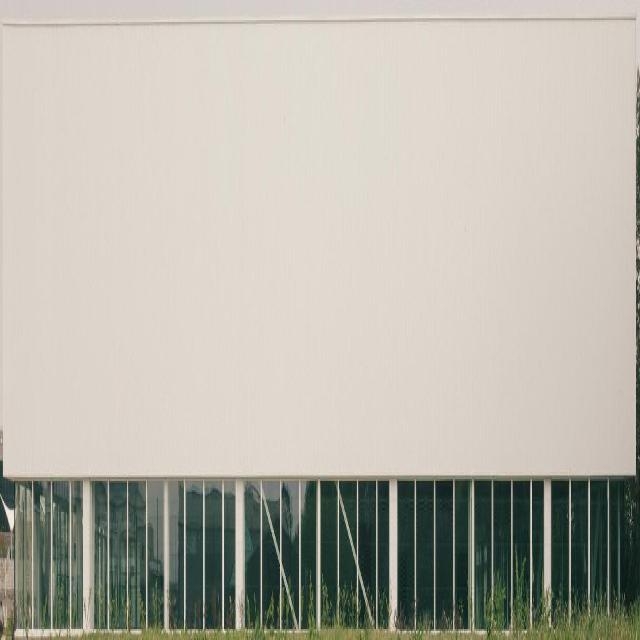window: (19, 467, 637, 607)
